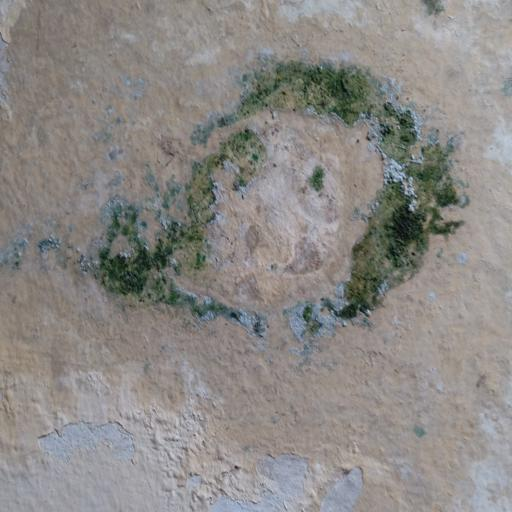algae: (96, 31, 476, 372)
